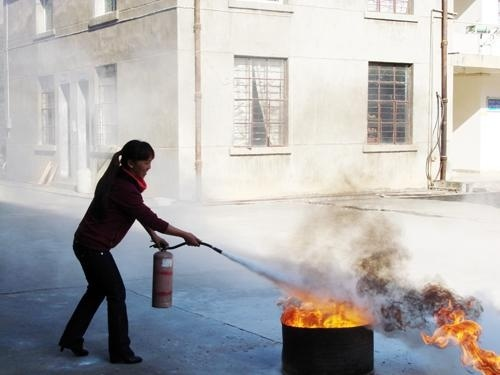fire: (419, 282, 500, 374), (279, 283, 371, 331)
